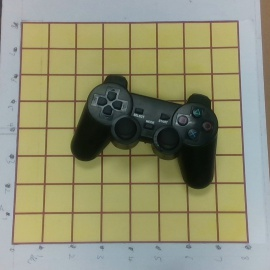remote: (71, 74, 218, 193)
